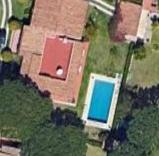pool: (80, 71, 122, 132)
